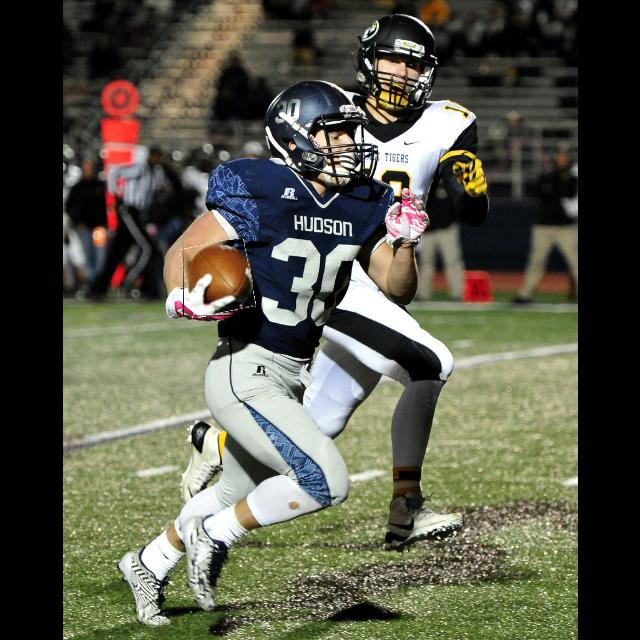Football: (183, 240, 253, 316)
